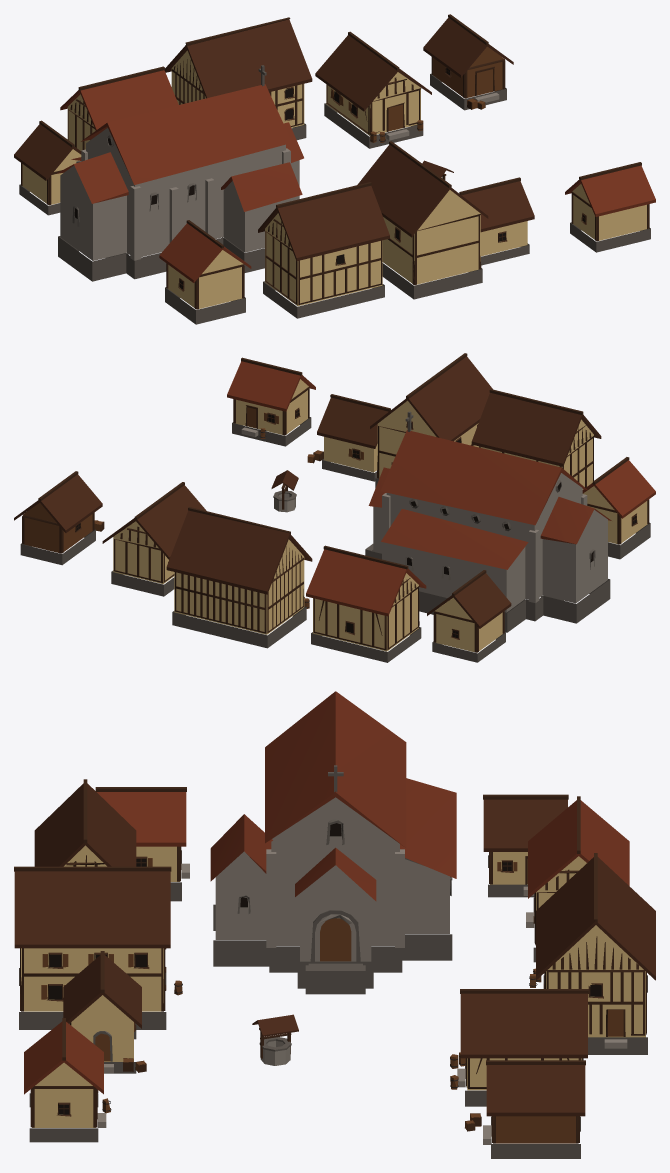
The model's file is Villa_LOD1.glb.
The picture shows the model from 3 angles, top to bottom: view 1: azimuth 30°, elevation 25°; view 2: azimuth 150°, elevation 25°; view 3: azimuth 270°, elevation 25°; orthographic projection. The views are drawn at different scales.
Parts seen in each view (by area): view 1: Iglesia, CasaEntramado, CasaGrande, CasaLarga, Galpon, CasaPequena1, CasaPequena3, Establo, CasaTrasera, CasaAnexo, CasaPequena2; view 2: Iglesia, CasaLarga, CasaTrasera, CasaEntramado, CasaGrande, Galpon, CasaPequena3, Establo, CasaPequena2, CasaPequena1, CasaAnexo, Pozo; view 3: Iglesia, CasaGrande, CasaLarga, Galpon, Establo, CasaPequena3, CasaTrasera, CasaEntramado, CasaAnexo, CasaPequena2, CasaPequena1, Pozo (+1 smaller).
Boxes of the visible parts, left/top/right/bottom form: Iglesia: left=56, top=65, right=303, bottom=281; CasaEntramado: left=258, top=182, right=389, bottom=318; CasaGrande: left=357, top=141, right=488, bottom=299; CasaLarga: left=164, top=17, right=312, bottom=140; Galpon: left=315, top=31, right=431, bottom=148; CasaPequena1: left=159, top=220, right=251, bottom=324; CasaPequena3: left=565, top=162, right=655, bottom=252; Establo: left=423, top=14, right=513, bottom=110; CasaTrasera: left=60, top=66, right=178, bottom=150; CasaAnexo: left=459, top=177, right=534, bottom=265; CasaPequena2: left=14, top=120, right=81, bottom=215; Iglesia: left=365, top=411, right=611, bottom=632; CasaLarga: left=166, top=507, right=312, bottom=648; CasaTrasera: left=306, top=545, right=426, bottom=662; CasaEntramado: left=471, top=389, right=601, bottom=489; CasaGrande: left=370, top=353, right=492, bottom=487; Galpon: left=102, top=482, right=206, bottom=596; CasaPequena3: left=227, top=357, right=315, bottom=446; Establo: left=14, top=471, right=102, bottom=565; CasaPequena2: left=427, top=570, right=511, bottom=662; CasaPequena1: left=582, top=457, right=655, bottom=559; CasaAnexo: left=317, top=394, right=390, bottom=481; Pozo: left=271, top=470, right=298, bottom=512; Iglesia: left=210, top=691, right=456, bottom=994; CasaGrande: left=14, top=866, right=171, bottom=1029; CasaLarga: left=536, top=853, right=655, bottom=1054; Galpon: left=457, top=989, right=588, bottom=1106; Establo: left=483, top=1060, right=585, bottom=1158; CasaPequena3: left=24, top=1018, right=106, bottom=1142; CasaTrasera: left=526, top=796, right=629, bottom=962; CasaEntramado: left=34, top=779, right=136, bottom=866; CasaAnexo: left=63, top=951, right=141, bottom=1073; CasaPequena2: left=483, top=794, right=568, bottom=897; CasaPequena1: left=95, top=787, right=189, bottom=901; Pozo: left=252, top=1014, right=298, bottom=1065.
Size of the model in its own units: 52.7 by 16.22 by 44.9.
